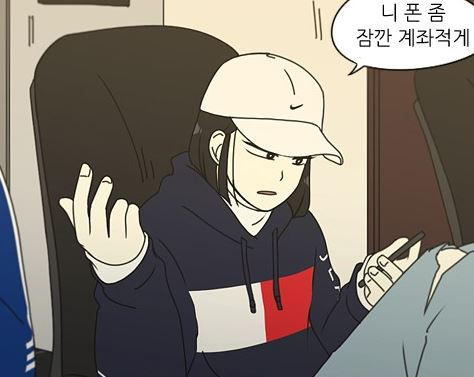hat: (196, 49, 347, 166)
